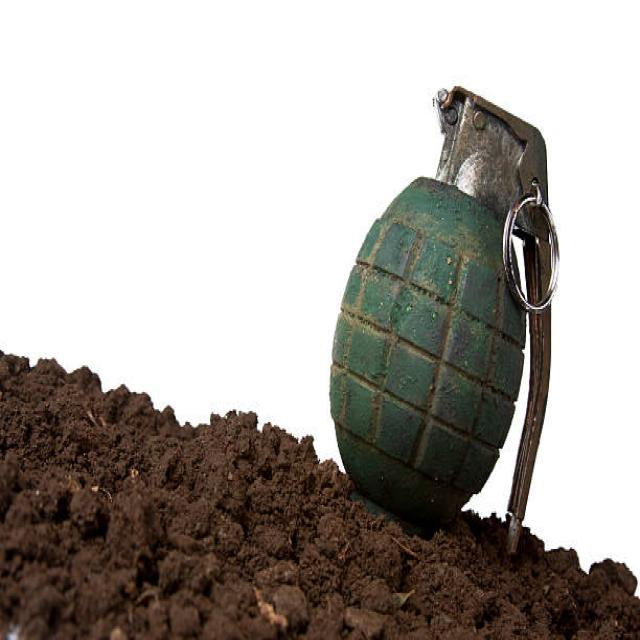grenade: (322, 77, 560, 559)
